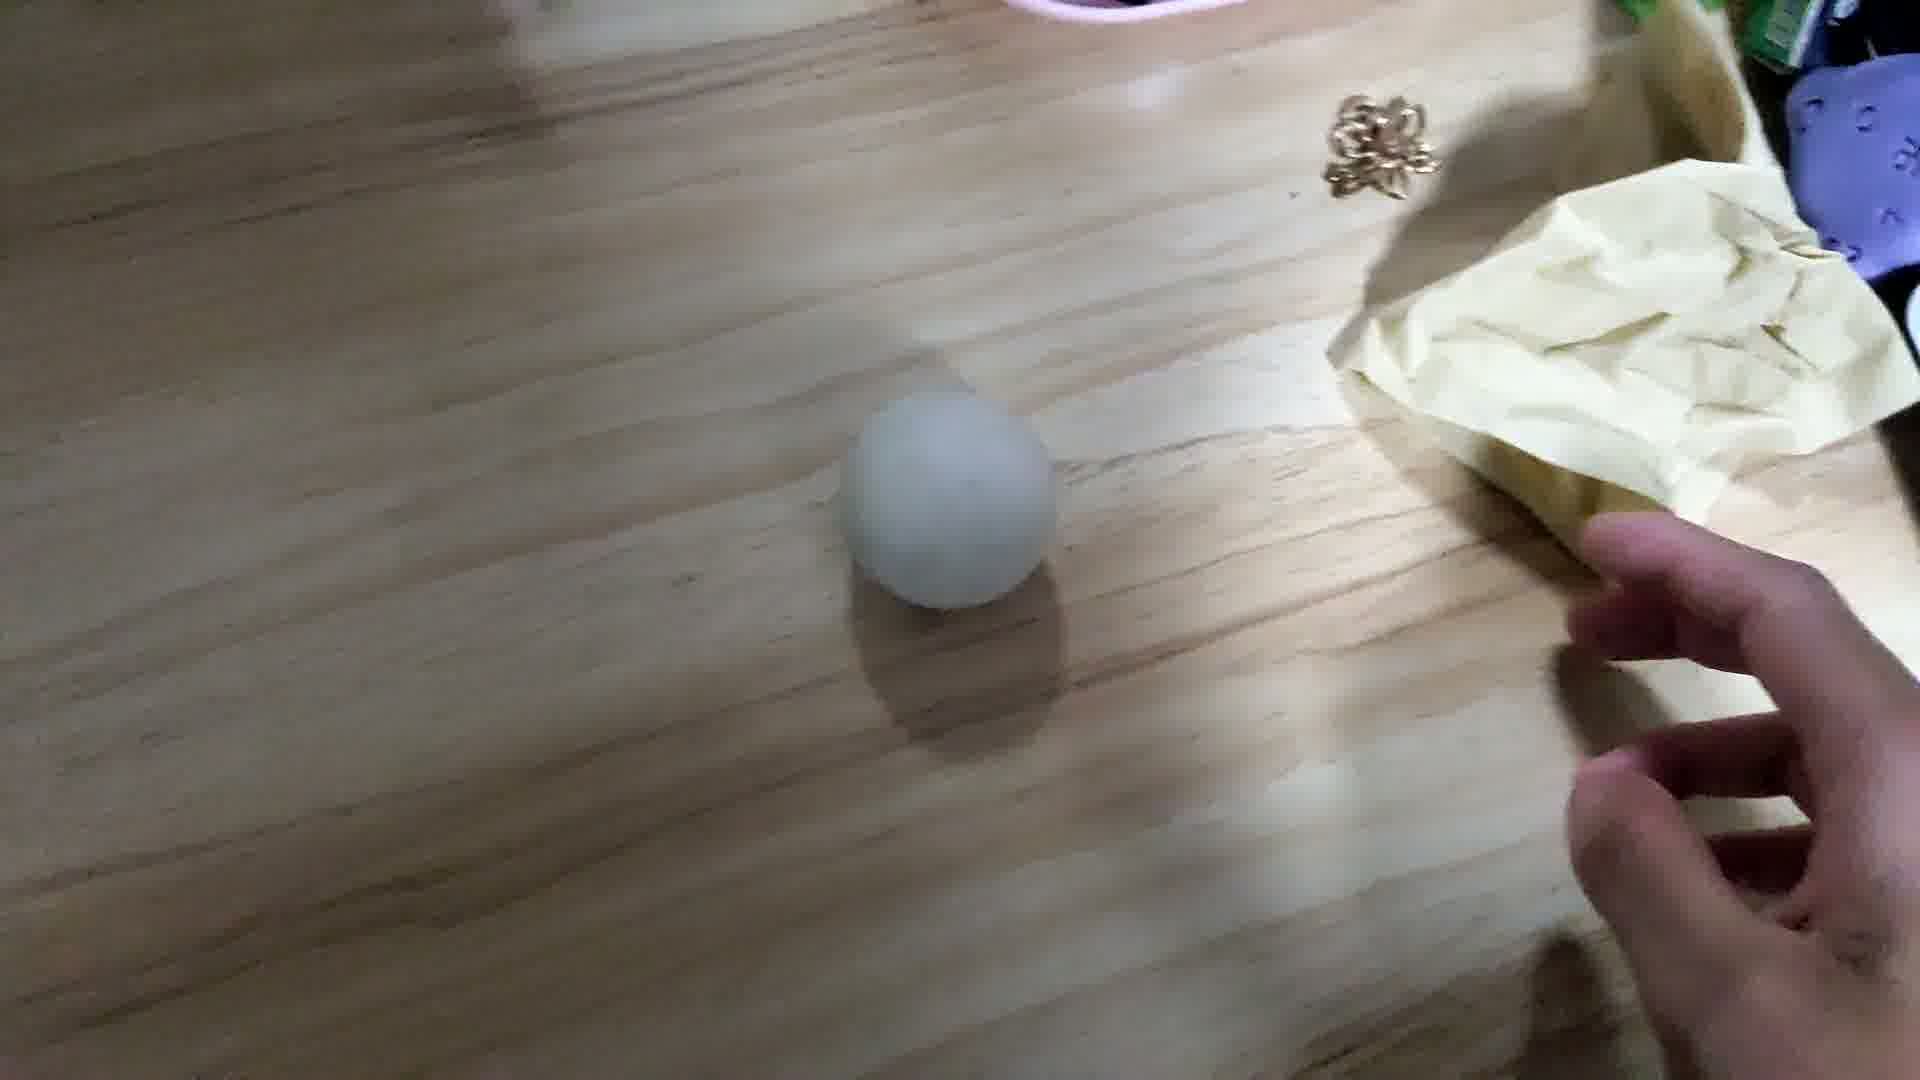Ball: (847, 386, 1059, 603)
